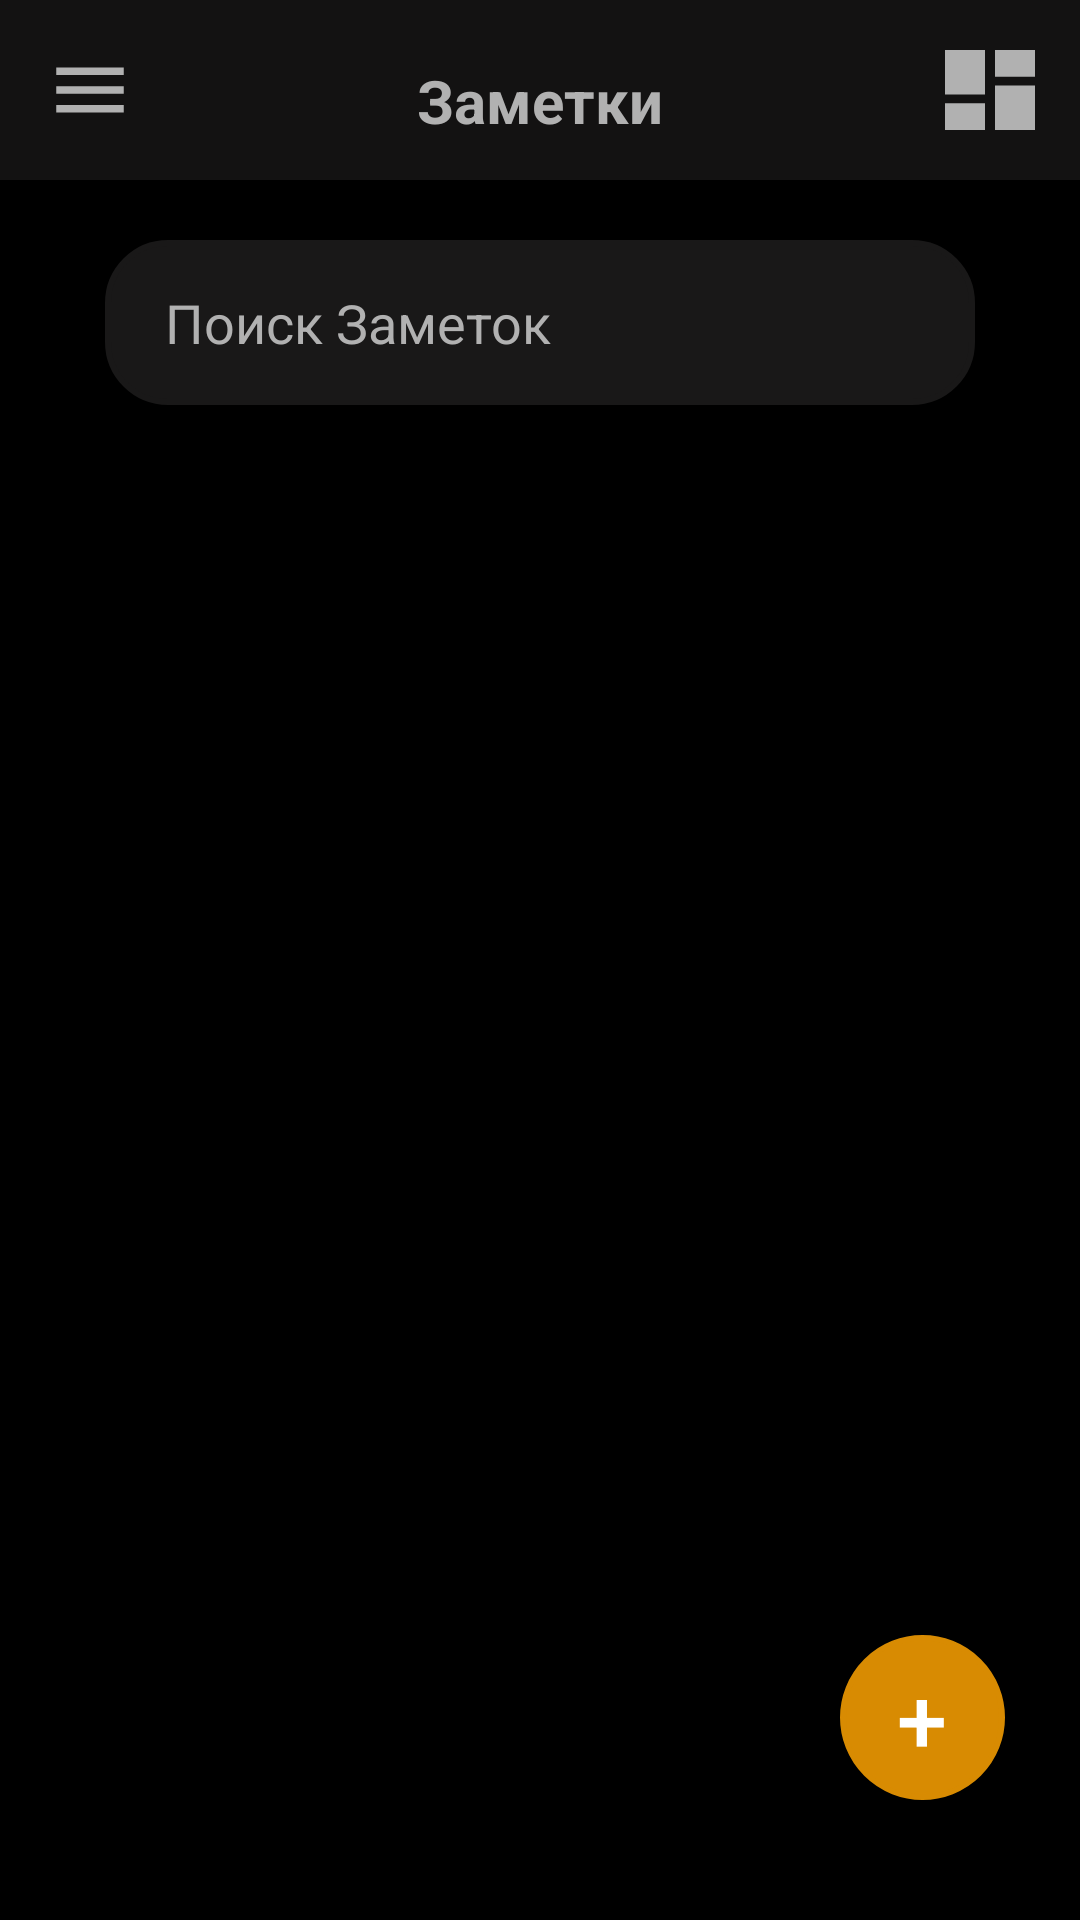

Locate icon controls on the screen. Image size 1080px×1920px, boxes as (x1, y1, x2, y2).
menu: (56, 67, 124, 113)
